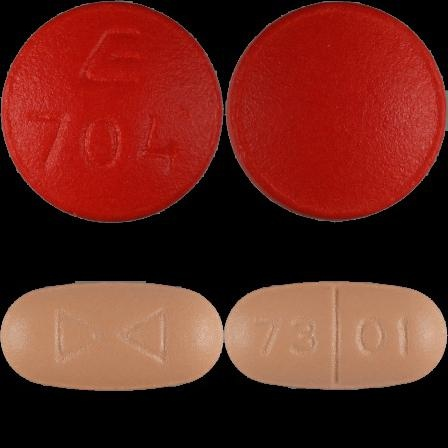63629-4072: (0, 0, 224, 224)
